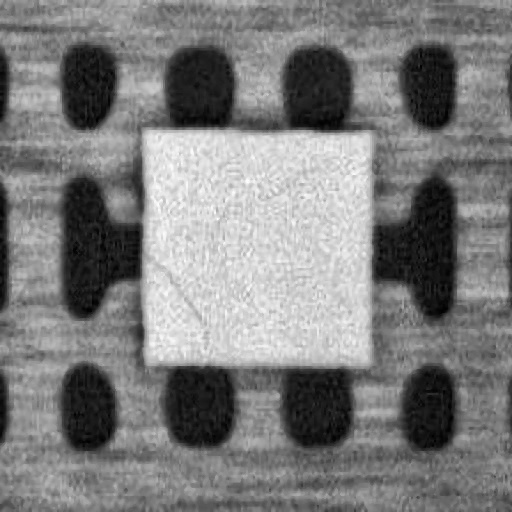DIE_CRACK: (144, 250, 208, 348)
